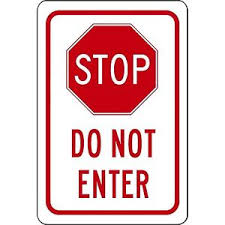Stop: (61, 13, 162, 120)
